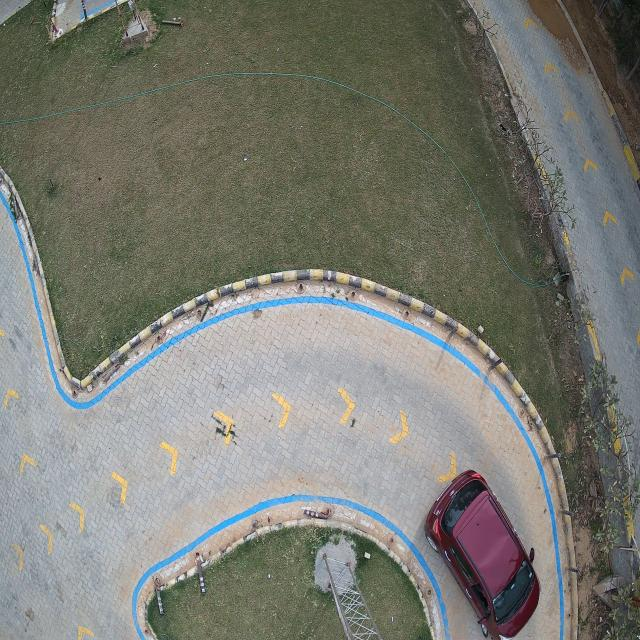car: (425, 470, 540, 638)
